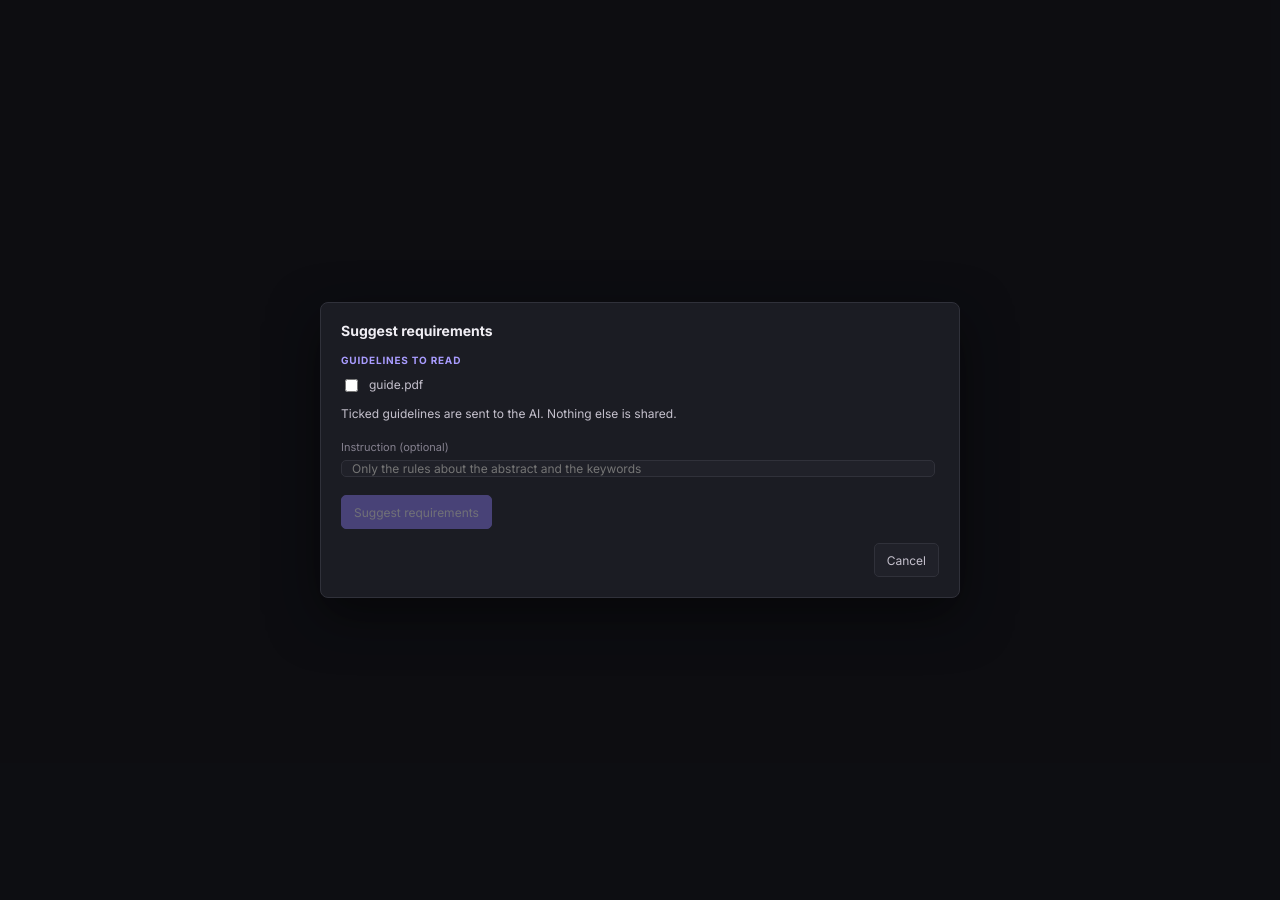
RequirementsSuggestDialog › shows Python's refusal and stays on the review
Click the checkbox labelled "guide.pdf" at (352, 385), box left=345, top=379, right=358, bottom=392
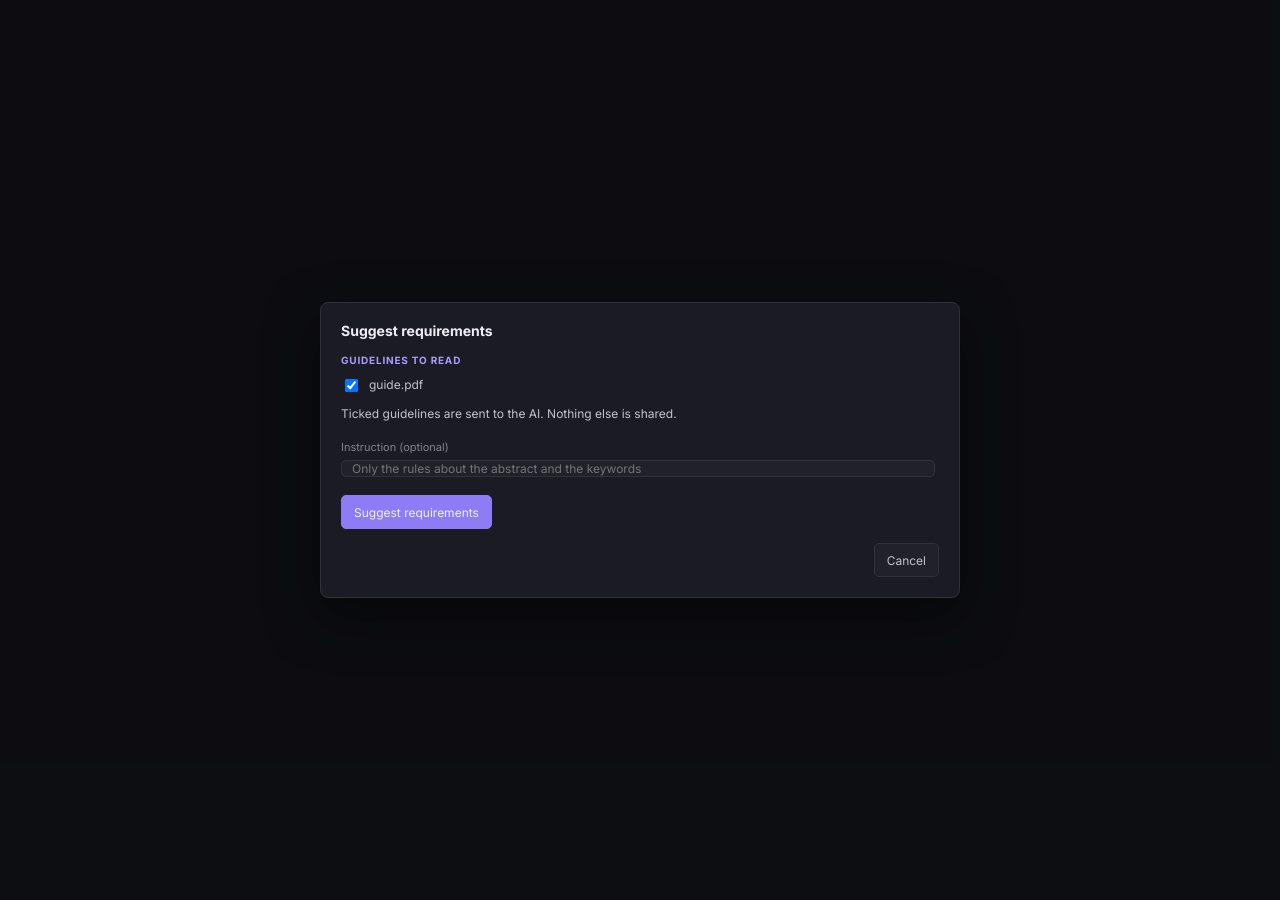
Click the button "Suggest requirements" at (416, 512), box left=341, top=495, right=492, bottom=529
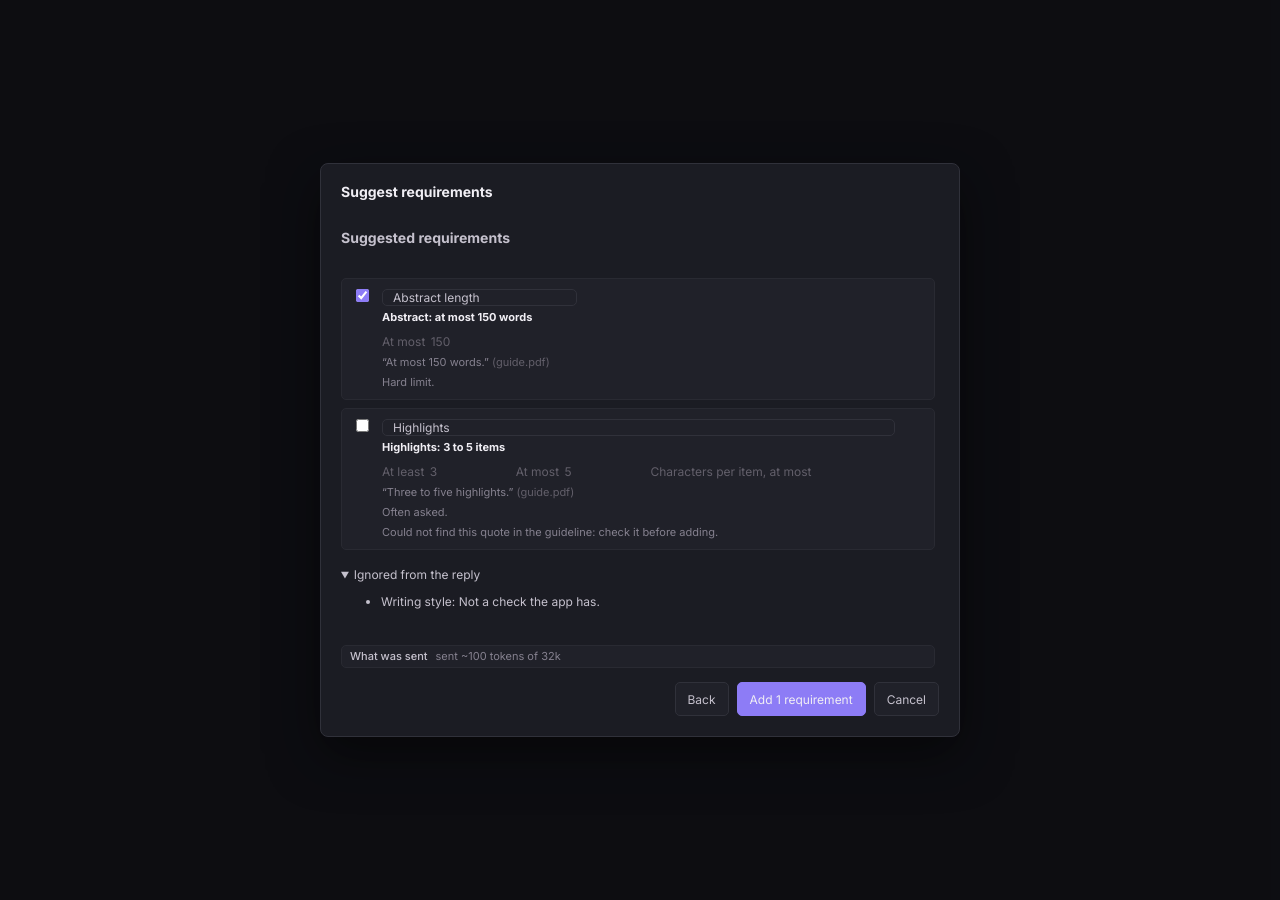
Click the button "Add 1 requirement" at (801, 699), box left=736, top=682, right=866, bottom=716
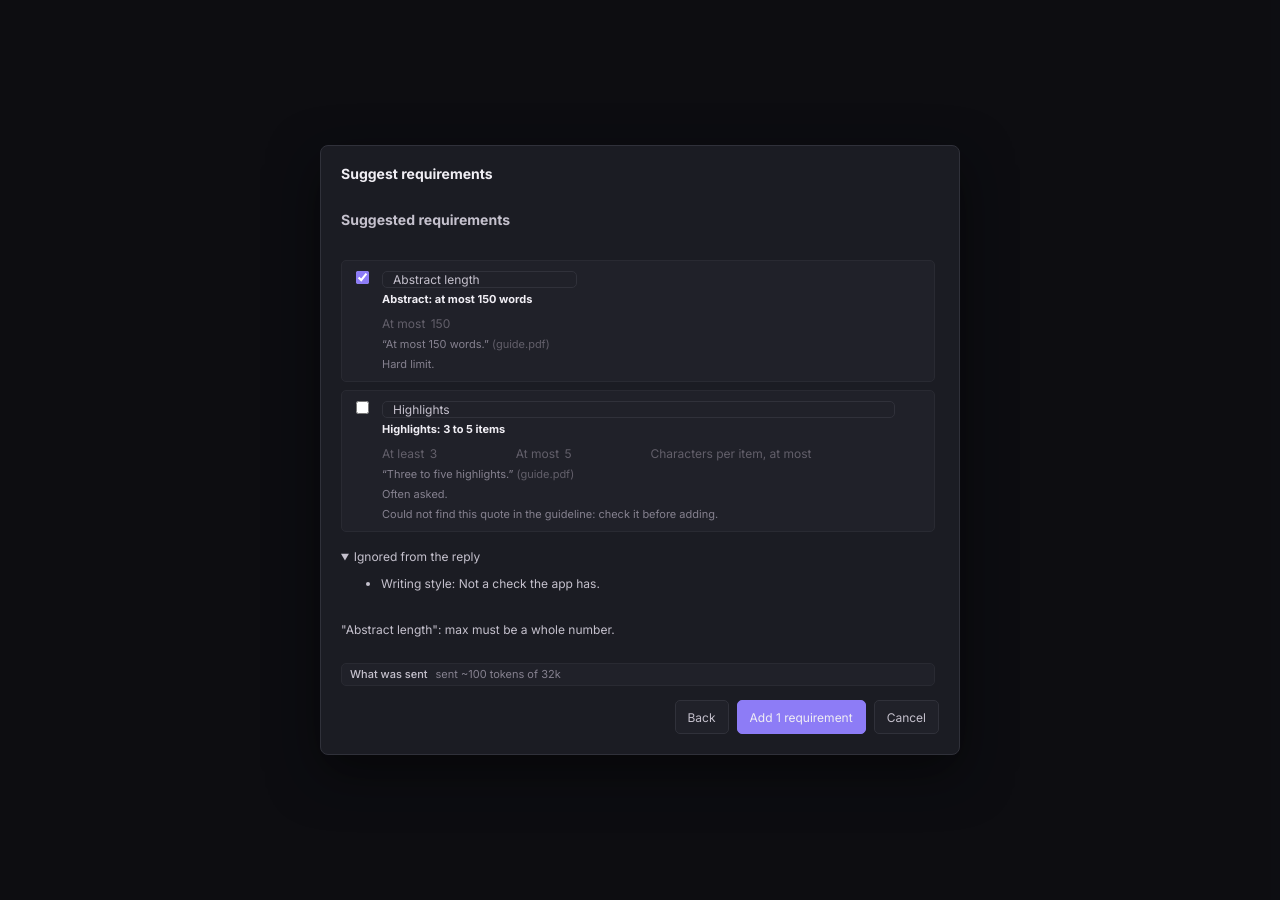
Now the button "Add 1 requirement" is shown, box left=736, top=700, right=866, bottom=734
Now the text "max must be a whole number" is shown, box left=341, top=622, right=615, bottom=637
